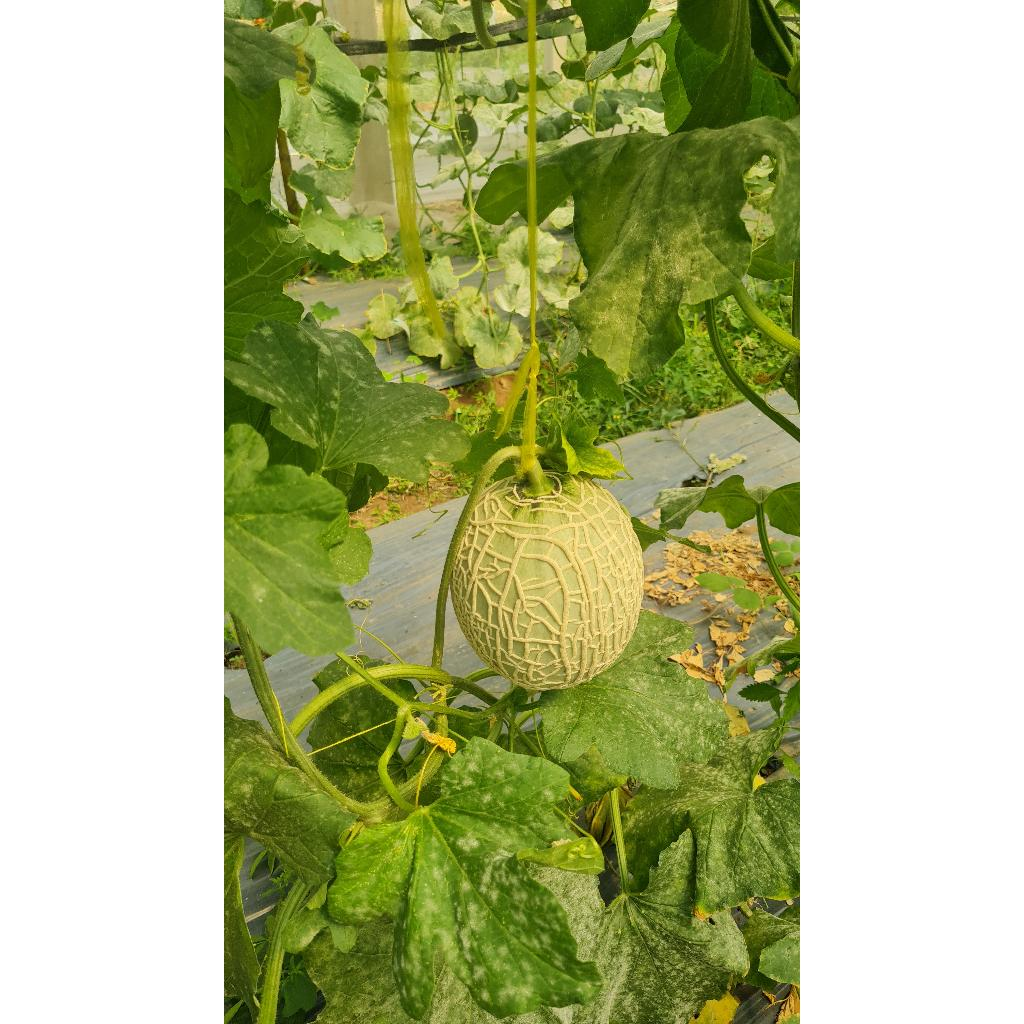melon: (450, 472, 644, 690)
